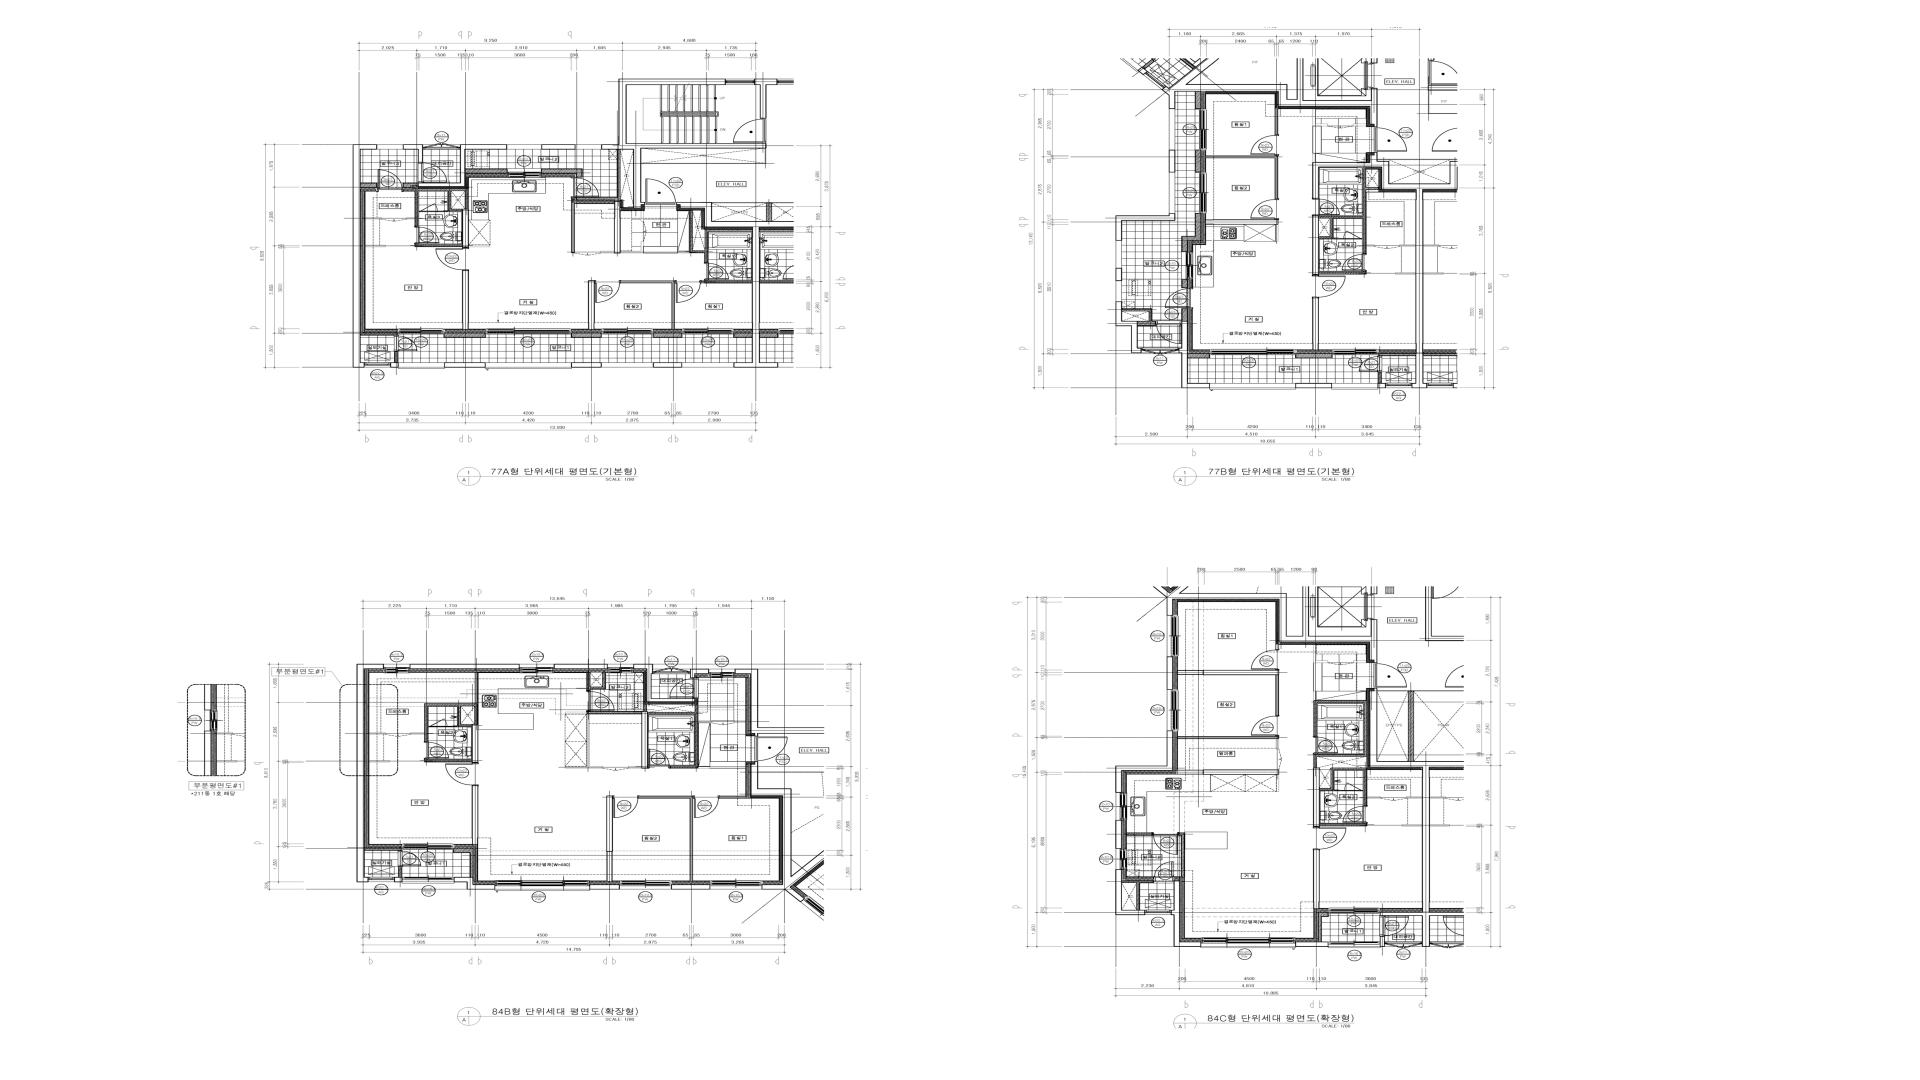door: (645, 178, 676, 204), (1374, 127, 1407, 152), (754, 736, 787, 761), (733, 119, 766, 144), (435, 247, 469, 270), (1312, 274, 1346, 298), (444, 762, 479, 786), (1374, 663, 1407, 687), (1313, 825, 1346, 849), (1164, 287, 1193, 309), (1250, 135, 1279, 156), (585, 690, 615, 711), (1156, 320, 1182, 344), (377, 169, 404, 191), (1153, 832, 1179, 855), (675, 280, 702, 302), (595, 280, 621, 302), (571, 177, 599, 198), (1251, 649, 1279, 670), (418, 162, 447, 182), (1250, 199, 1279, 219), (1379, 916, 1408, 936), (670, 678, 699, 698), (613, 795, 638, 818), (694, 795, 719, 818), (1251, 716, 1279, 736), (1312, 198, 1340, 215), (414, 225, 439, 244), (1313, 736, 1338, 754), (423, 741, 450, 758), (1342, 253, 1367, 270), (1342, 806, 1367, 823), (704, 262, 729, 280), (1154, 861, 1174, 882), (649, 749, 670, 769), (394, 335, 417, 351), (1360, 356, 1382, 372), (398, 851, 421, 866), (423, 142, 460, 149), (1142, 348, 1179, 355), (1385, 942, 1422, 948), (653, 667, 690, 674), (421, 203, 438, 212), (1345, 782, 1362, 791), (1344, 231, 1361, 239), (430, 719, 447, 727), (712, 720, 735, 725), (381, 218, 407, 222), (575, 252, 601, 256), (1374, 245, 1400, 249), (1381, 796, 1407, 800), (1276, 749, 1282, 769), (603, 767, 629, 770), (1328, 125, 1353, 128), (1328, 662, 1353, 665), (385, 733, 410, 736), (644, 222, 646, 241)
wall: (1312, 152, 1457, 388), (1370, 687, 1464, 947), (601, 78, 766, 208), (1153, 585, 1378, 663), (676, 202, 778, 368), (1162, 58, 1378, 127), (750, 761, 824, 902), (356, 663, 384, 882), (735, 669, 824, 736), (352, 144, 377, 368), (1319, 167, 1379, 253), (638, 795, 694, 881), (1178, 670, 1279, 716), (566, 711, 642, 767), (647, 704, 712, 769), (418, 144, 508, 186), (1313, 700, 1367, 767), (1116, 731, 1174, 793), (690, 210, 752, 262), (1205, 156, 1278, 199), (1320, 767, 1367, 827), (621, 281, 675, 330), (634, 663, 695, 702), (406, 189, 468, 225), (1178, 769, 1279, 791), (576, 149, 620, 200), (1425, 585, 1464, 641), (425, 703, 479, 741), (1179, 320, 1209, 388), (1171, 881, 1201, 947), (641, 148, 766, 164), (425, 727, 472, 762), (1116, 214, 1175, 240), (1116, 302, 1142, 353), (1116, 869, 1145, 915), (1178, 736, 1279, 749), (629, 711, 649, 769), (600, 200, 621, 253), (754, 78, 778, 119), (1122, 880, 1154, 910), (1182, 212, 1201, 252), (1122, 309, 1156, 326), (410, 663, 520, 669), (454, 848, 473, 877), (607, 795, 613, 881), (454, 877, 495, 889), (462, 270, 469, 330), (1312, 215, 1319, 274), (472, 786, 479, 845), (1313, 849, 1320, 909), (1313, 767, 1320, 827), (402, 144, 423, 162), (1205, 219, 1278, 224), (1408, 691, 1414, 761), (587, 671, 607, 690), (1312, 298, 1319, 351), (588, 280, 595, 330), (542, 169, 583, 177), (1319, 913, 1329, 942), (462, 208, 469, 247), (1179, 832, 1185, 877), (554, 663, 608, 669), (1313, 645, 1328, 663), (621, 241, 644, 253), (472, 724, 479, 762), (1313, 108, 1328, 125), (443, 332, 485, 338), (465, 169, 508, 174), (571, 198, 575, 253), (1167, 657, 1174, 690), (444, 363, 485, 368), (1295, 353, 1333, 359), (702, 280, 752, 284), (1116, 820, 1122, 849), (1319, 270, 1366, 274), (1296, 382, 1332, 388), (690, 669, 709, 678), (542, 144, 575, 149), (1296, 942, 1328, 947), (571, 332, 601, 338), (653, 332, 683, 338), (671, 885, 711, 889), (1195, 149, 1201, 173), (572, 363, 601, 368), (653, 363, 682, 368), (1168, 150, 1175, 171), (414, 244, 463, 247), (475, 671, 479, 703), (589, 885, 620, 889), (1188, 353, 1211, 359), (1378, 690, 1464, 691), (1195, 91, 1201, 108), (1378, 158, 1457, 160), (1126, 832, 1153, 836), (1275, 108, 1279, 135), (360, 332, 398, 335), (1378, 353, 1416, 356), (364, 848, 402, 851), (733, 332, 752, 338), (360, 182, 377, 187), (1116, 268, 1122, 281), (402, 182, 418, 187), (719, 795, 750, 798), (1182, 309, 1188, 320), (1402, 824, 1423, 827), (369, 760, 389, 762), (1182, 280, 1188, 287), (394, 351, 398, 363), (390, 363, 398, 368), (1400, 244, 1416, 247), (1378, 372, 1382, 382), (1381, 936, 1385, 947), (369, 732, 385, 735), (398, 866, 402, 877), (394, 877, 402, 882), (1378, 382, 1386, 388), (410, 732, 425, 735), (1353, 661, 1366, 663), (641, 211, 644, 222), (1395, 273, 1416, 274), (735, 720, 745, 723), (365, 245, 385, 247), (644, 704, 647, 711), (1276, 224, 1278, 241), (365, 218, 381, 219), (1366, 244, 1374, 247), (1407, 796, 1423, 798), (1275, 644, 1279, 649), (1353, 124, 1366, 125), (1367, 796, 1381, 798), (418, 211, 421, 212)
window: (1201, 938, 1296, 948), (495, 881, 589, 890), (1209, 382, 1296, 389), (1167, 690, 1179, 731), (1167, 616, 1179, 657), (711, 880, 762, 889), (620, 880, 671, 889), (485, 363, 572, 368), (485, 328, 571, 334), (1211, 349, 1295, 355), (1328, 942, 1381, 948), (1328, 907, 1381, 914), (402, 877, 454, 884), (1182, 252, 1193, 280), (1116, 793, 1127, 820), (1199, 173, 1207, 214), (1199, 108, 1207, 149), (508, 169, 542, 178), (520, 663, 554, 673), (1332, 382, 1378, 389), (402, 844, 454, 849), (682, 328, 733, 334), (601, 328, 653, 334), (384, 663, 410, 673), (608, 663, 634, 673), (398, 363, 444, 368), (398, 328, 443, 334), (1333, 349, 1378, 355), (1116, 849, 1127, 869), (709, 669, 735, 678), (1170, 171, 1175, 214), (1170, 108, 1175, 150), (682, 363, 733, 367), (601, 363, 653, 367), (1116, 240, 1122, 268), (508, 144, 542, 149), (725, 79, 754, 84), (575, 144, 601, 149), (1386, 382, 1412, 388), (1116, 281, 1122, 302), (368, 877, 394, 882), (1145, 910, 1171, 915), (377, 144, 402, 149), (364, 363, 390, 367)
